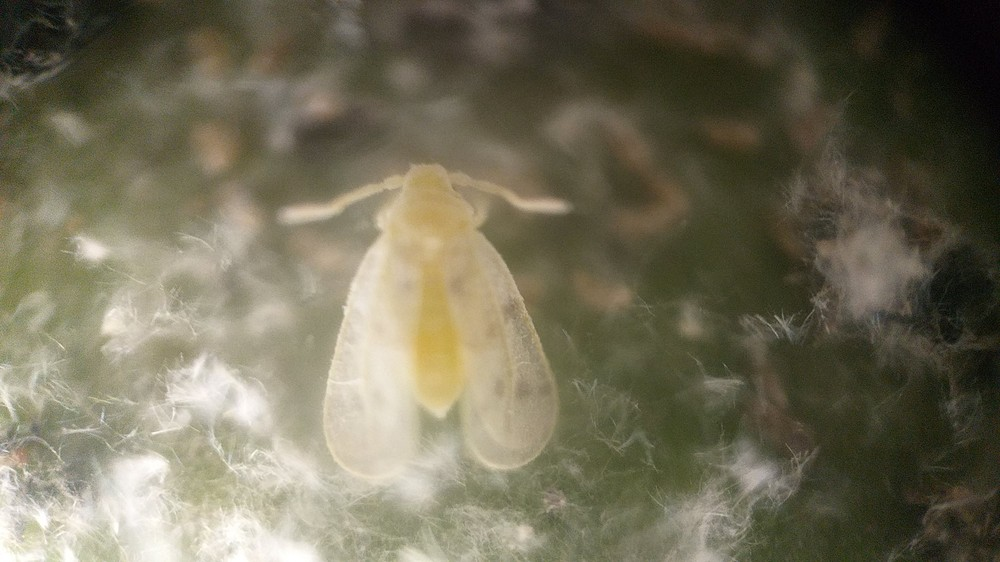Mosca Blanca: (270, 151, 591, 497)
